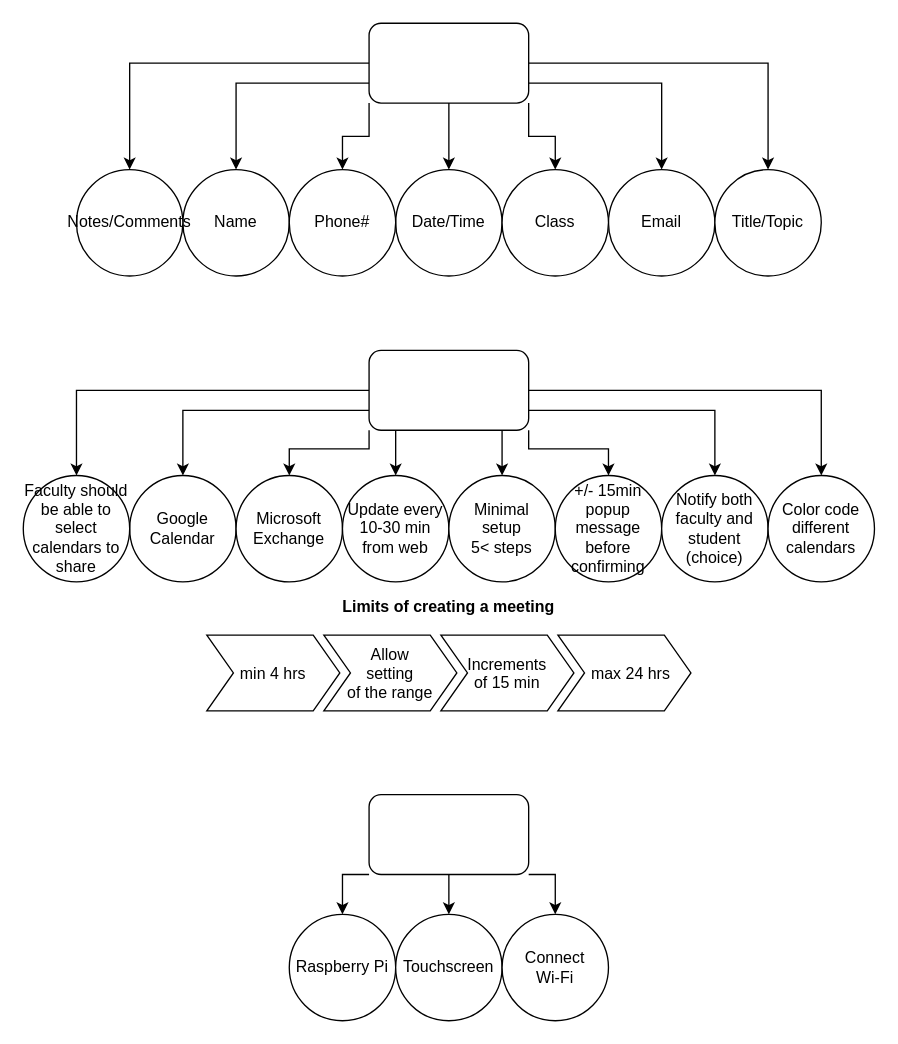
This 898x1044 diagram has some shape labels left out. Here are the shapes that lost their labels. From the top down, the centre of each, then its label:
At (448,62): "Interface".
At (448,389): "Software".
At (448,833): "Hardware".
